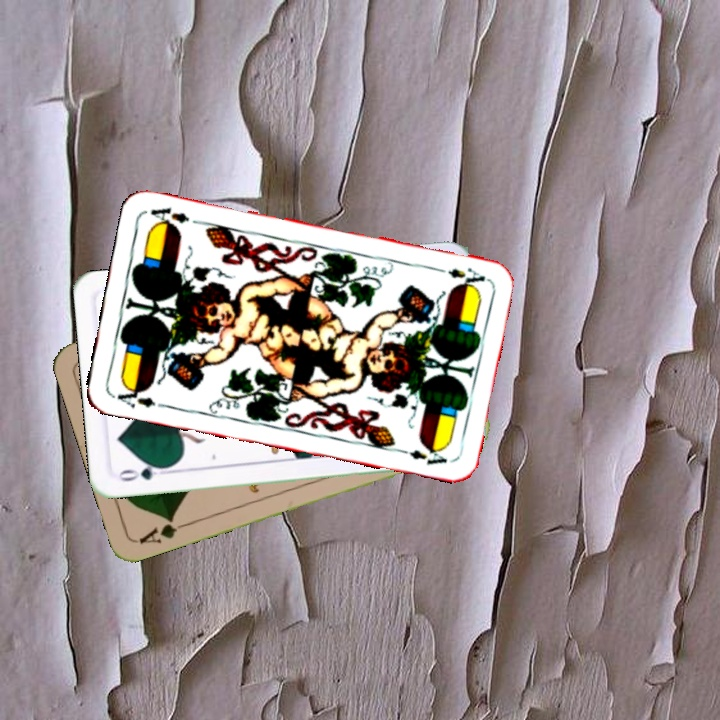EA: (113, 381, 168, 411), (431, 263, 488, 289)
GA: (135, 513, 192, 547)
GO: (115, 459, 173, 484)
